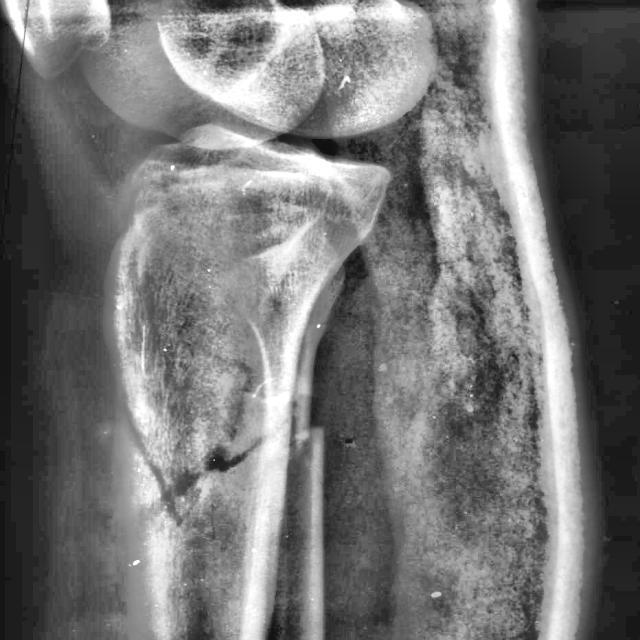fracture: (110, 378, 283, 554), (285, 403, 328, 487)
